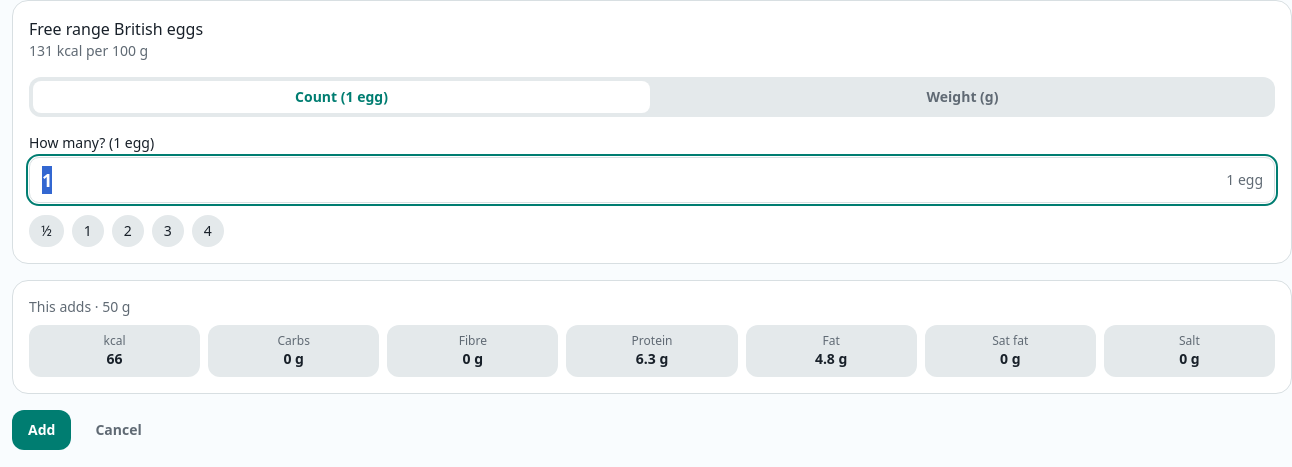
it: QuantityPanel — foods with a portion › switches back to counts without drift
Click the tab "Weight (g)". click: (962, 97)
box: [654,81,1271,113]
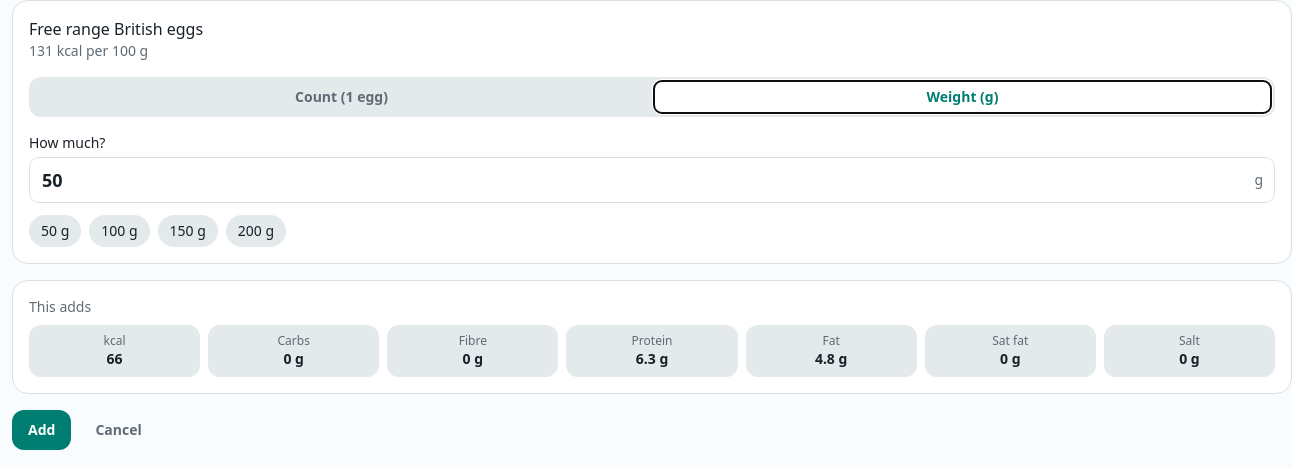
Replace the text in the number field labelled "How much?" with "150". click: (652, 180)
box: [29,157,1275,203]
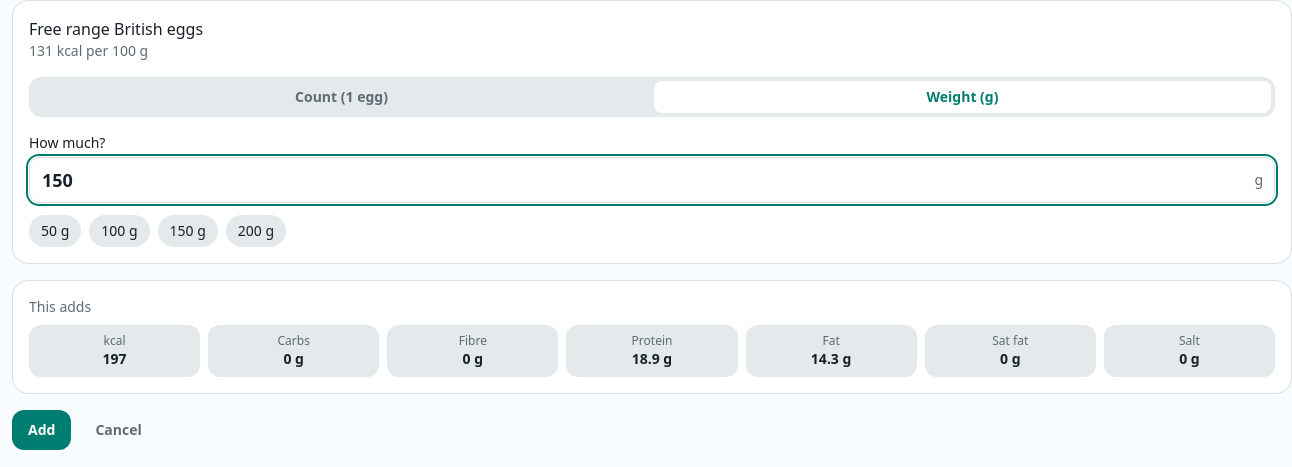
Click the tab "Count (1 egg)". click: (342, 97)
box: [33,81,650,113]
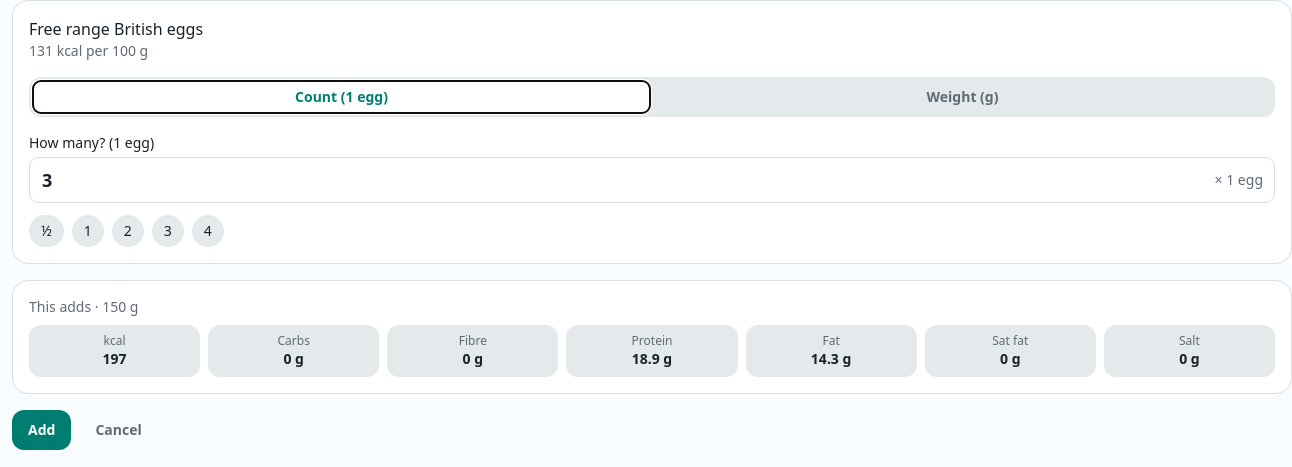
expect the number field labelled "How many? (1 egg)" holds "3": met, box [29,157,1275,203]
